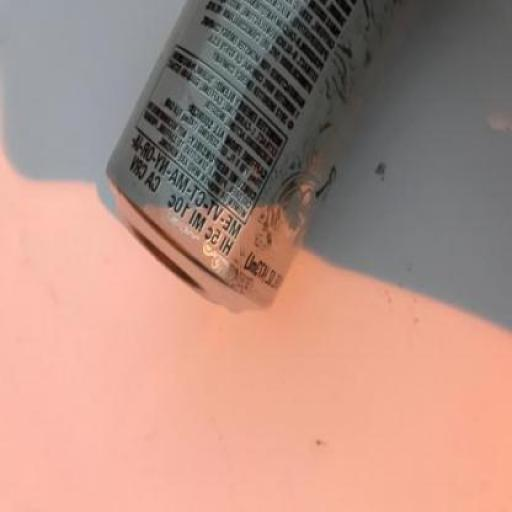metal: (105, 2, 408, 316)
